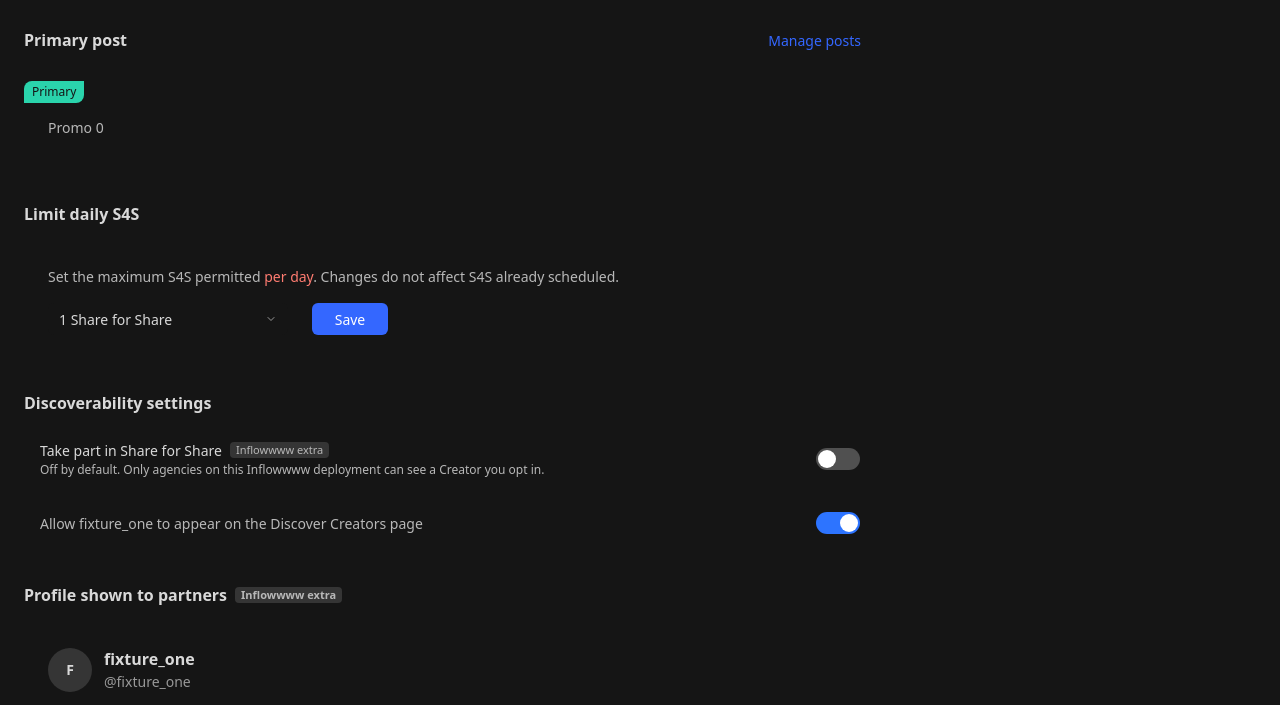
it: S4SSettingPanel › offers no Create post once a creator holds 20 posts
This screenshot has width=1280, height=705.
Click the button "Manage posts" at (815, 40), box [753, 24, 876, 56]
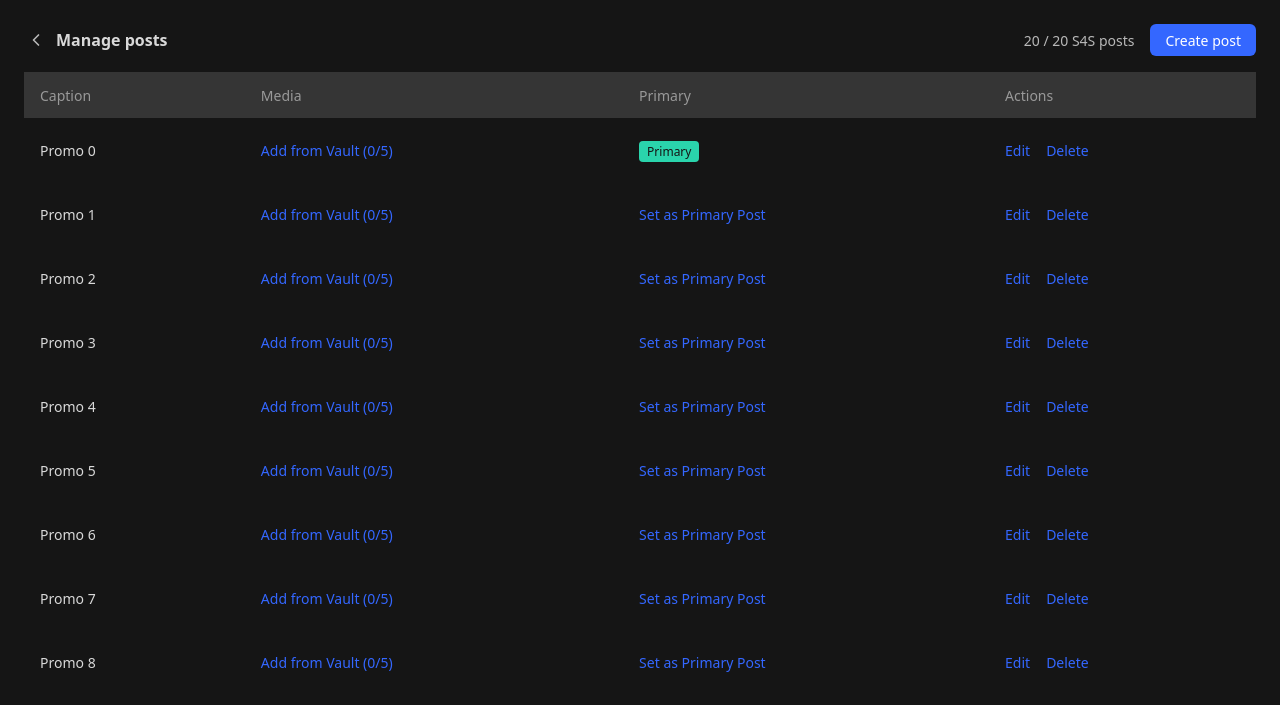
Check: the button "Create post" is disabled, box [1150, 24, 1256, 56]
Check: the text "20 / 20 S4S posts" is shown, box [1024, 30, 1134, 50]
